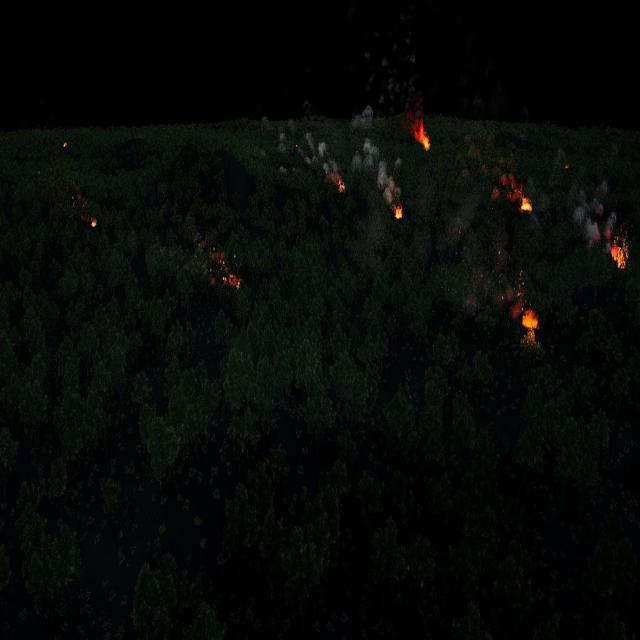fire: (612, 241, 630, 270), (523, 311, 538, 332), (416, 126, 429, 150), (226, 273, 242, 290), (522, 199, 532, 213), (338, 178, 347, 192), (394, 207, 403, 219), (91, 217, 99, 228), (64, 141, 68, 148)
smoke: (355, 54, 421, 118), (351, 137, 400, 203), (465, 265, 525, 318), (570, 180, 616, 246), (459, 64, 509, 117), (303, 131, 338, 178), (206, 247, 231, 286), (452, 199, 477, 235), (492, 171, 520, 202), (71, 186, 90, 223), (530, 211, 555, 237), (349, 104, 376, 120), (278, 122, 291, 152), (278, 166, 290, 176)
